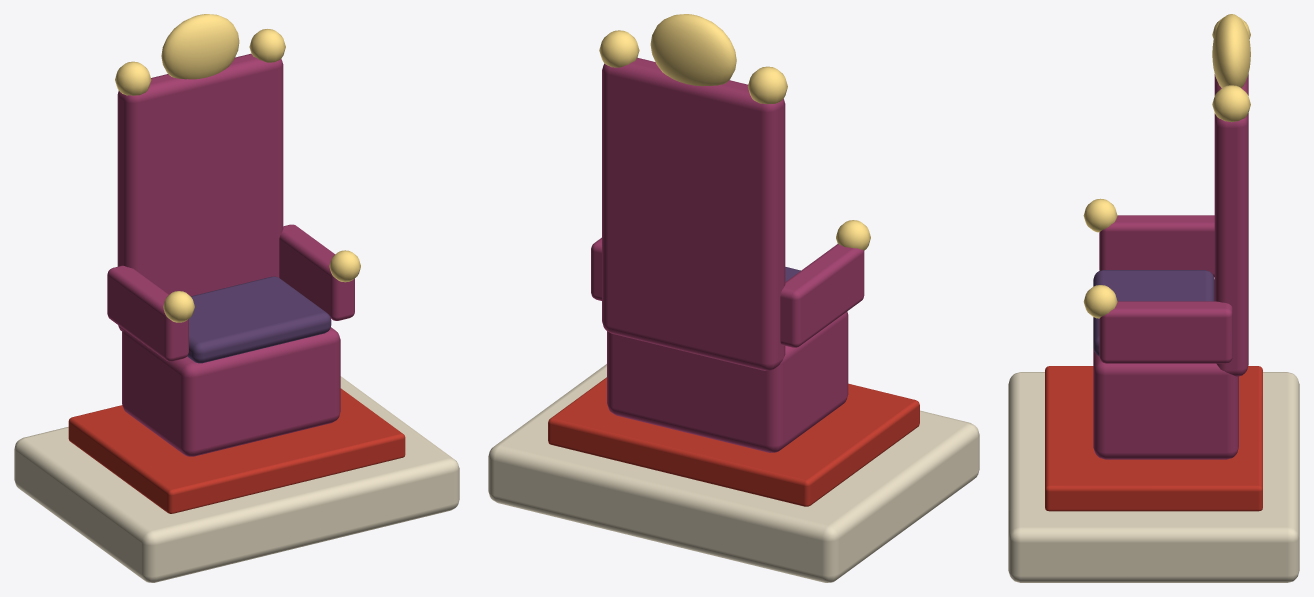
File: throne.glb
3 renders of one model, left to right at view 1: azimuth 30°, elevation 25°; view 2: azimuth 150°, elevation 25°; view 3: azimuth 270°, elevation 25°, orthographic. The views are drawn at different scales.
Parts seen in each view (by area): view 1: throne; view 2: throne; view 3: throne.
Part boxes in pixels (x1,y1,x2,y2): throne: (14,14,459,582); throne: (488,14,979,582); throne: (1008,14,1299,582).
Bounding box in the file's own units: 1.6 × 2.21 × 1.2.
